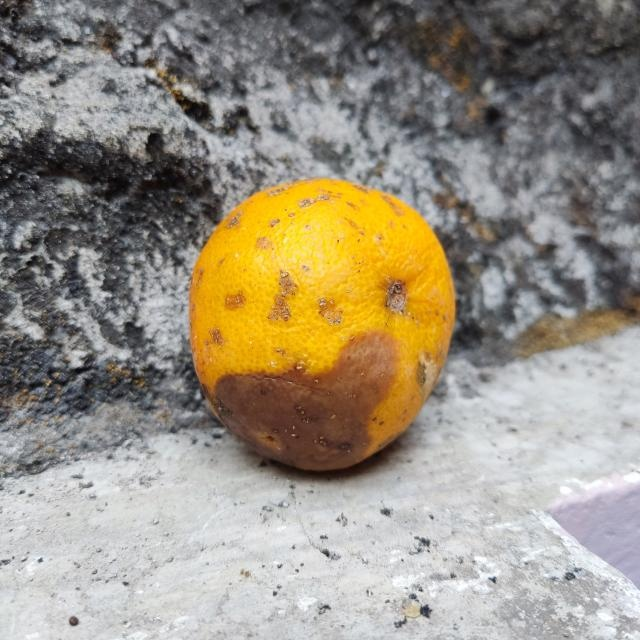agrume: (182, 176, 458, 471)
